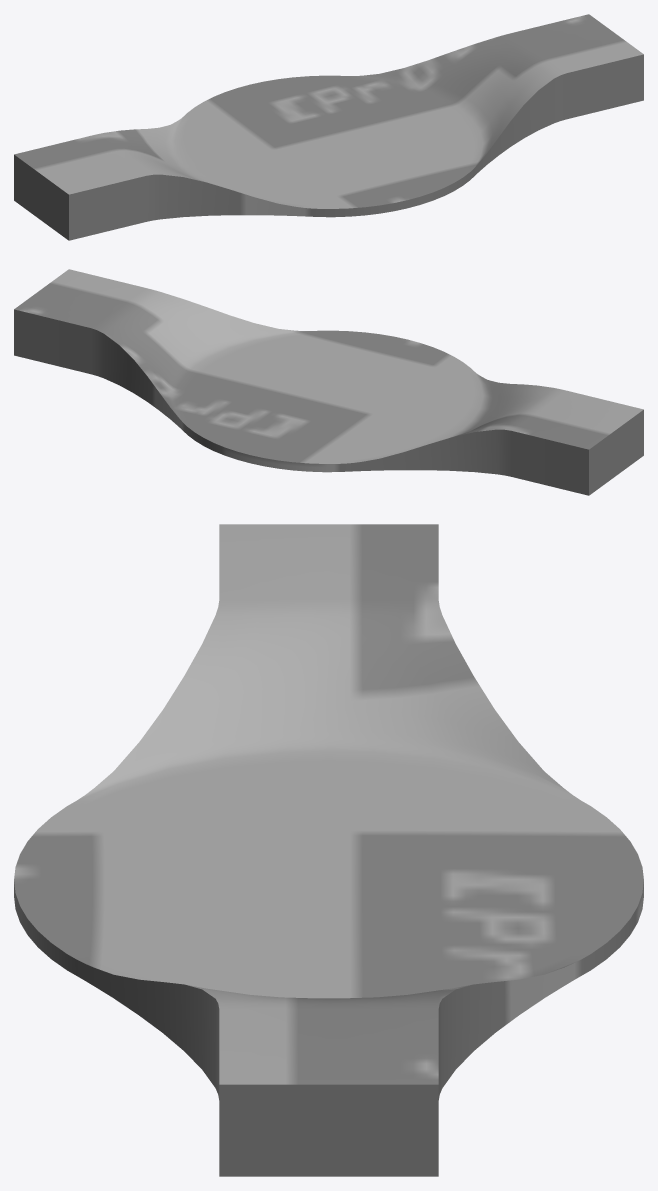
Rendered from Prop_Round_Floor.fbx.
3 views of the same model, one above another, from view 1: azimuth 30°, elevation 25°; view 2: azimuth 150°, elevation 25°; view 3: azimuth 270°, elevation 25° (orthographic). The views are drawn at different scales.
Visible parts, largest first — view 1: Prop_Round_Floor; view 2: Prop_Round_Floor; view 3: Prop_Round_Floor.
Part boxes in pixels (box(x1,y1,x2,y2)): Prop_Round_Floor: box(14, 14, 643, 240); Prop_Round_Floor: box(14, 269, 643, 495); Prop_Round_Floor: box(14, 524, 643, 1176).
Bounding box in the file's own units: 8078 × 619 × 3840.
